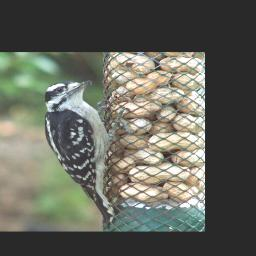Woodpecker: (33, 78, 132, 228)
